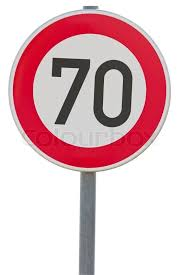Speed_limit_70km: (7, 10, 171, 170)
